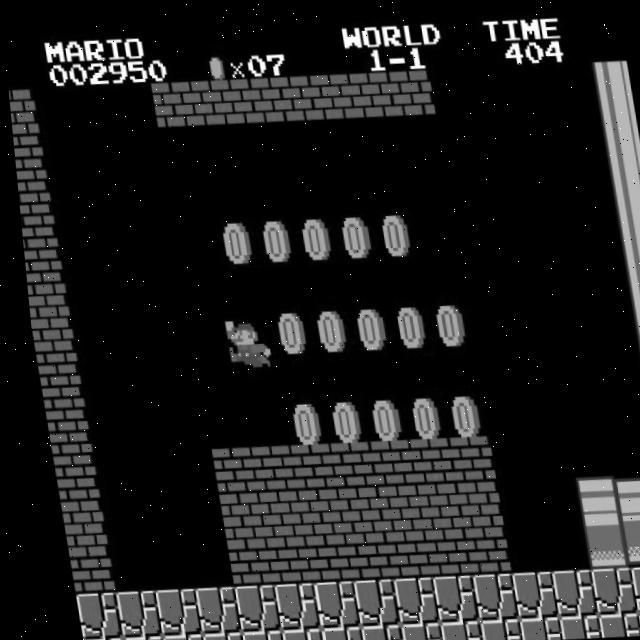1- brick_block: (148, 80, 196, 130), (208, 491, 256, 541), (215, 536, 263, 586), (254, 534, 302, 584), (227, 75, 275, 125), (294, 532, 342, 582), (307, 71, 355, 121), (347, 69, 395, 119), (406, 480, 454, 530), (413, 526, 461, 576), (446, 478, 494, 528), (188, 78, 236, 127), (241, 443, 289, 492), (267, 74, 315, 123), (320, 439, 368, 488), (327, 485, 375, 534), (360, 437, 408, 486), (400, 435, 448, 484), (36, 407, 83, 457), (56, 544, 103, 594), (288, 486, 335, 536), (334, 530, 381, 580), (367, 482, 414, 532), (374, 528, 421, 578), (387, 67, 434, 117), (30, 362, 77, 411), (43, 453, 90, 502), (202, 445, 249, 494), (248, 489, 295, 538), (281, 441, 328, 490), (453, 524, 500, 573), (440, 433, 487, 481), (24, 316, 70, 365), (50, 499, 96, 548), (20, 270, 63, 320), (17, 224, 57, 274), (14, 180, 49, 229), (10, 134, 43, 183), (7, 88, 36, 137)
11- little_mario: (215, 315, 265, 368)
14- pipe: (584, 56, 632, 106), (591, 102, 639, 151), (597, 148, 640, 197), (604, 193, 640, 243), (605, 470, 640, 520), (611, 239, 640, 289), (612, 516, 640, 565), (617, 284, 640, 333), (624, 329, 640, 379), (631, 376, 640, 425), (637, 422, 640, 470)
15- pipe_head: (565, 472, 613, 522), (572, 517, 620, 567)
17- undestructible_block: (142, 586, 190, 636), (221, 582, 269, 632), (261, 580, 309, 630), (301, 578, 349, 628), (380, 574, 428, 624), (499, 567, 547, 617), (578, 563, 626, 613), (340, 576, 388, 625), (420, 572, 468, 621), (63, 590, 110, 640), (182, 584, 229, 634), (460, 570, 507, 620), (103, 589, 150, 638), (539, 566, 586, 615), (505, 613, 550, 640), (585, 609, 630, 636), (545, 611, 590, 637), (466, 615, 511, 640), (618, 561, 640, 611), (426, 617, 471, 640), (386, 619, 431, 640), (347, 621, 391, 640), (307, 624, 351, 640), (267, 625, 311, 640), (227, 627, 271, 640), (188, 629, 231, 640), (625, 607, 640, 633), (148, 632, 191, 640), (108, 634, 151, 640), (69, 635, 110, 640)
2- coin: (274, 395, 322, 445), (314, 393, 362, 443), (380, 298, 428, 348), (393, 389, 441, 439), (420, 295, 468, 345), (433, 387, 481, 437), (208, 215, 256, 264), (287, 211, 335, 260), (327, 209, 375, 258), (340, 300, 388, 349), (301, 302, 348, 352), (354, 391, 401, 441), (248, 213, 295, 262), (261, 304, 308, 353), (367, 207, 414, 255)
